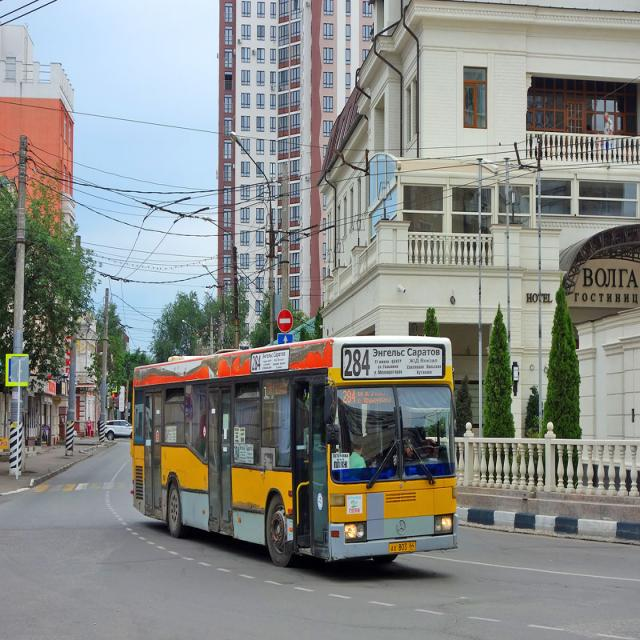number-of-bus: (345, 346, 372, 379)
